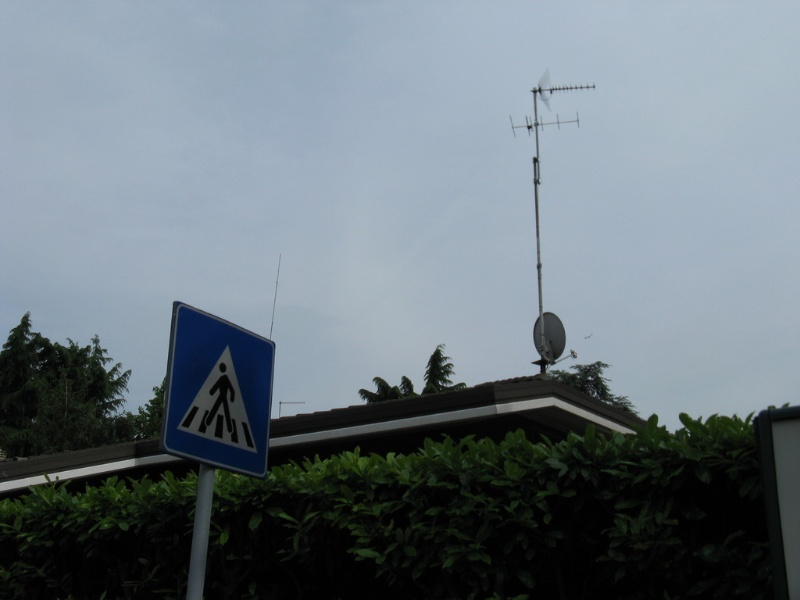pedestrian_crossing_ahead: (147, 284, 306, 493)
